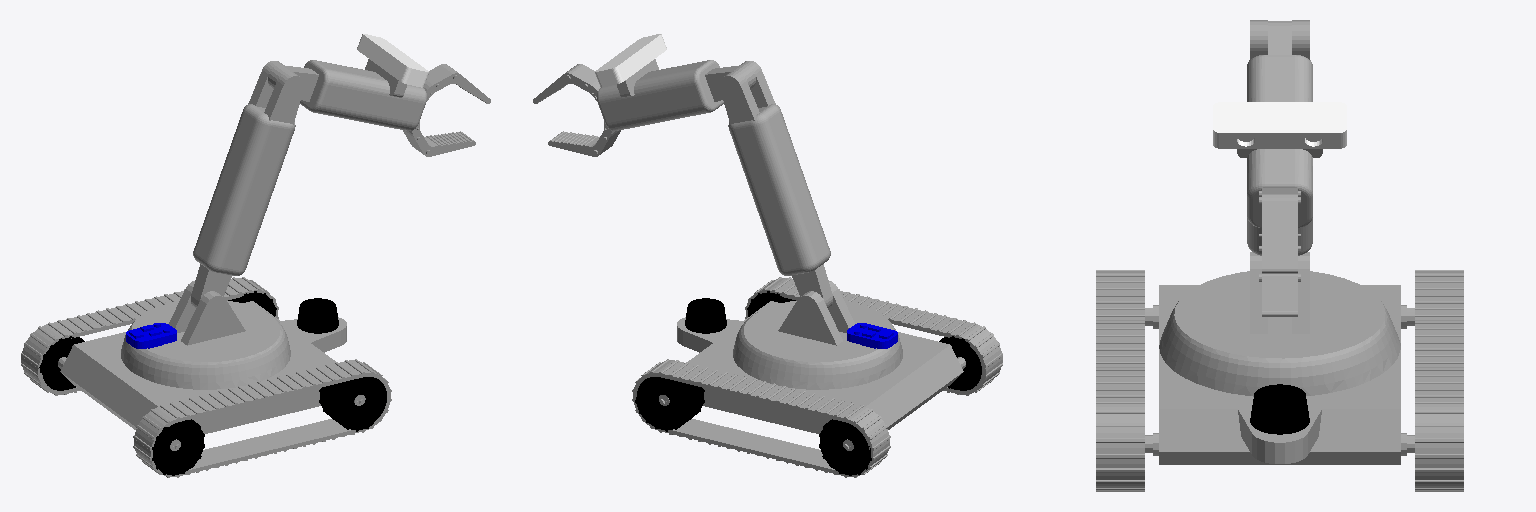
URDF robot description (slam2robot):
<?xml version="1.0" encoding="utf-8"?>
<robot name="slam2robot">

  <!-- Material definitions for RViz -->
  <material name="grey">
    <color rgba="0.7 0.7 0.7 1.0"/>
  </material>
  <material name="black">
    <color rgba="0.0 0.0 0.0 1.0"/>
  </material>
  <material name="white">
    <color rgba="1.0 1.0 1.0 1.0"/>
  </material>
  <material name="blue">
    <color rgba="0.0 0.0 1.0 1.0"/>
  </material>

  <gazebo reference="base_link"><material>Gazebo/Grey</material></gazebo>
  <gazebo reference="wheel1"><material>Gazebo/Black</material></gazebo>
  <gazebo reference="wheel2"><material>Gazebo/Black</material></gazebo>
  <gazebo reference="wheel3"><material>Gazebo/Black</material></gazebo>
  <gazebo reference="wheel4"><material>Gazebo/Black</material></gazebo>
  <gazebo reference="link1"><material>Gazebo/Grey</material></gazebo>
  <gazebo reference="link2"><material>Gazebo/Grey</material></gazebo>
  <gazebo reference="camera"><material>Gazebo/White</material></gazebo>
  <gazebo reference="imu"><material>Gazebo/Blue</material></gazebo>
  <gazebo reference="lidar"><material>Gazebo/Black</material></gazebo>

  <link name="base_link">
    <inertial>
      <origin xyz="0.0023332 -1.2121E-07 0.016421" rpy="0 0 0" />
      <mass value="3.7053" />
      <inertia ixx="0.010256" ixy="0" ixz="0" iyy="0.016675" iyz="0" izz="0.025413" />
    </inertial>
    <visual>
      <geometry><mesh filename="package://slam2robot/meshes/base_link.STL" /></geometry>
      <material name="grey"/>
    </visual>
    <collision>
      <geometry><mesh filename="package://slam2robot/meshes/base_link.STL" /></geometry>
    </collision>
  </link>

  <link name="wheel1">
    <inertial>
      <origin xyz="0 0 0" rpy="0 0 0" />
      <mass value="0.1279" />
      <inertia ixx="6.0677E-05" ixy="0" ixz="0" iyy="6.0677E-05" iyz="0" izz="9.3018E-05" />
    </inertial>
    <visual><geometry><mesh filename="package://slam2robot/meshes/wheel1.STL" /></geometry><material name="black"/></visual>
    <collision>
      <origin xyz="0 0 0" rpy="0 0 0" />
      <geometry><cylinder radius="0.05" length="0.04"/></geometry>
    </collision>
  </link>
  <joint name="w1" type="continuous">
    <origin xyz="0.12464 0.132 0" rpy="1.5708 0 0" />
    <parent link="base_link" /><child link="wheel1" /><axis xyz="0 0 -1" />
  </joint>

  <link name="wheel2">
    <inertial>
      <origin xyz="0 0 0" rpy="0 0 0" />
      <mass value="0.1279" />
      <inertia ixx="6.0677E-05" ixy="0" ixz="0" iyy="6.0677E-05" iyz="0" izz="9.3018E-05" />
    </inertial>
    <visual><geometry><mesh filename="package://slam2robot/meshes/wheel2.STL" /></geometry><material name="black"/></visual>
    <collision>
      <origin xyz="0 0 0" rpy="0 0 0" />
      <geometry><cylinder radius="0.05" length="0.04"/></geometry>
    </collision>
  </link>
  <joint name="w2" type="continuous">
    <origin xyz="-0.12464 0.132 0" rpy="1.5708 0 0" />
    <parent link="base_link" /><child link="wheel2" /><axis xyz="0 0 -1" />
  </joint>

  <link name="wheel3">
    <inertial>
      <origin xyz="0 0 0" rpy="0 0 0" />
      <mass value="0.1279" />
      <inertia ixx="6.0677E-05" ixy="0" ixz="0" iyy="6.0677E-05" iyz="0" izz="9.3018E-05" />
    </inertial>
    <visual><geometry><mesh filename="package://slam2robot/meshes/wheel3.STL" /></geometry><material name="black"/></visual>
    <collision>
      <origin xyz="0 0 0" rpy="0 0 0" />
      <geometry><cylinder radius="0.05" length="0.04"/></geometry>
    </collision>
  </link>
  <joint name="w3" type="continuous">
    <origin xyz="0.12464 -0.132 0" rpy="1.5708 0 3.1416" />
    <parent link="base_link" /><child link="wheel3" /><axis xyz="0 0 1" />
  </joint>

  <link name="wheel4">
    <inertial>
      <origin xyz="0 0 0" rpy="0 0 0" />
      <mass value="0.1279" />
      <inertia ixx="6.0677E-05" ixy="0" ixz="0" iyy="6.0677E-05" iyz="0" izz="9.3018E-05" />
    </inertial>
    <visual><geometry><mesh filename="package://slam2robot/meshes/wheel4.STL" /></geometry><material name="black"/></visual>
    <collision>
      <origin xyz="0 0 0" rpy="0 0 0" />
      <geometry><cylinder radius="0.05" length="0.04"/></geometry>
    </collision>
  </link>
  <joint name="w4" type="continuous">
    <origin xyz="-0.12464 -0.132 0" rpy="1.5708 0 3.1416" />
    <parent link="base_link" /><child link="wheel4" /><axis xyz="0 0 1" />
  </joint>

  <link name="track1"><visual><geometry><mesh filename="package://slam2robot/meshes/track1.STL" /></geometry><material name="grey"/></visual></link>
  <joint name="t1" type="fixed"><origin xyz="0.00035 0.132 0" rpy="0 0 0" /><parent link="base_link" /><child link="track1" /></joint>

  <link name="track2"><visual><geometry><mesh filename="package://slam2robot/meshes/track2.STL" /></geometry><material name="grey"/></visual></link>
  <joint name="t2" type="fixed"><origin xyz="0.00035 -0.132 0" rpy="0 0 0" /><parent link="base_link" /><child link="track2" /></joint>

  <link name="link1">
    <inertial>
      <origin xyz="0.13921 0 0" rpy="0 0 0" />
      <mass value="0.65479" />
      <inertia ixx="0.000283" ixy="0" ixz="0" iyy="0.00334" iyz="0" izz="0.00333" />
    </inertial>
    <visual><geometry><mesh filename="package://slam2robot/meshes/link1.STL" /></geometry><material name="grey"/></visual>
    <collision><geometry><mesh filename="package://slam2robot/meshes/link1.STL" /></geometry></collision>
  </link>
  <joint name="l1" type="revolute">
    <origin xyz="0 0 0.10072" rpy="1.5708 -1.189 0" />
    <parent link="base_link" />
    <child link="link1" />
    <axis xyz="0 0 1" />
    <limit lower="-0.4" upper="1.57" effort="15" velocity="3" />
    <dynamics damping="1.0" friction="1.0"/>
  </joint>

  <link name="link2">
    <inertial>
      <origin xyz="0.12213 -0.00115 0" rpy="0 0 0" />
      <mass value="0.56752" />
      <inertia ixx="0.00030" ixy="0" ixz="0" iyy="0.00242" iyz="0" izz="0.00250" />
    </inertial>
    <visual><geometry><mesh filename="package://slam2robot/meshes/link2.STL" /></geometry><material name="grey"/></visual>
    <collision><geometry><mesh filename="package://slam2robot/meshes/link2.STL" /></geometry></collision>
  </link>
  <joint name="l2" type="revolute">
    <origin xyz="0.28 0 0" rpy="0 0 -1.5708" />
    <parent link="link1" />
    <child link="link2" />
    <axis xyz="0 0 1" />
    <limit lower="-0.4" upper="1.57" effort="20" velocity="2" />
    <dynamics damping="8.0" friction="1.0"/> 
  </joint>

  <link name="camera">
    <inertial>
      <origin xyz="0 -3.086e-05 -0.000346" rpy="0 0 0" /><mass value="0.073" />
      <inertia ixx="8.20E-05" ixy="0" ixz="0" iyy="8.96E-06" iyz="0" izz="7.81E-05" />
    </inertial>
    <visual><origin xyz="0 0 0" rpy="0 0 1.5708" /><geometry><mesh filename="package://slam2robot/meshes/camera.STL" /></geometry><material name="white"/></visual>
    <collision><origin xyz="0 0 0" rpy="0 0 1.5708" /><geometry><mesh filename="package://slam2robot/meshes/camera.STL" /></geometry></collision>
  </link>
  <joint name="cam_joint" type="fixed">
    <origin xyz="0.14207 0.046599 0" rpy="-1.5708 0 -1.6126" /><parent link="link2" /><child link="camera" />
  </joint>
  <link name="camera_optical"/>
  <joint name="camera_optical_joint" type="fixed">
    <origin xyz="0 0 0" rpy="0 -1.5708 0" />
    <parent link="camera" />
    <child link="camera_optical" />
  </joint>

  <link name="imu">
    <inertial>
      <origin xyz="-0.00021152 9.4705E-05 0.0037659" rpy="0 0 0" /><mass value="0.025" />
      <inertia ixx="2.83E-06" ixy="0" ixz="0" iyy="6.05E-06" iyz="0" izz="7.62E-06" />
    </inertial>
    <visual><geometry><mesh filename="package://slam2robot/meshes/imu.STL" /></geometry><material name="blue"/></visual>
    <collision><geometry><mesh filename="package://slam2robot/meshes/imu.STL" /></geometry></collision>
  </link>
  <joint name="imu_joint" type="fixed">
    <origin xyz="-0.073325 0 0.065717" rpy="0 0 0" /><parent link="base_link" /><child link="imu" />
  </joint>

  <link name="lidar">
    <inertial>
      <origin xyz="0 0 0.02" rpy="0 0 0" /><mass value="0.05" />
      <inertia ixx="9.89E-06" ixy="0" ixz="0" iyy="9.89E-06" iyz="0" izz="1.29E-05" />
    </inertial>
    <visual><origin xyz="0 0 -0.02" rpy="0 0 0" /><geometry><mesh filename="package://slam2robot/meshes/lidar.STL" /></geometry><material name="black"/></visual>
    <collision><origin xyz="0 0 -0.02" rpy="0 0 0" /><geometry><mesh filename="package://slam2robot/meshes/lidar.STL" /></geometry></collision>
  </link>
  <joint name="lidar_front_joint" type="fixed">
    <origin xyz="0.15193 0 0.07717" rpy="0 0 0" /><parent link="base_link" /><child link="lidar" />
  </joint>

  <gazebo>
    <plugin name="diff_drive" filename="libgazebo_ros_diff_drive.so">
      <num_wheel_pairs>2</num_wheel_pairs>
      
      <left_joint>w1</left_joint>
      <left_joint>w2</left_joint>
      
      <right_joint>w4</right_joint>
      <right_joint>w3</right_joint>

      <wheel_separation>0.264</wheel_separation>
      <wheel_diameter>0.1</wheel_diameter>
      
      <max_wheel_torque>20</max_wheel_torque>
      <max_wheel_acceleration>1.0</max_wheel_acceleration>
      <publish_odom>true</publish_odom>
      <publish_odom_tf>true</publish_odom_tf>
      <publish_wheel_tf>true</publish_wheel_tf>
      <odometry_frame>odom</odometry_frame>
      <robot_base_frame>base_link</robot_base_frame>
    </plugin>
  </gazebo>

  <gazebo reference="lidar">
    <sensor name="lidar" type="ray">
      <pose>0 0 0.7 0 0 0</pose>
      <always_on>true</always_on>
      <visualize>true</visualize>
      <update_rate>5</update_rate>
      <ray>
        <scan>
          <horizontal>
            <samples>330</samples>
            <resolution>1.000000</resolution>
            <min_angle>-2.87979</min_angle>
            <max_angle>2.87979</max_angle>
          </horizontal>
        </scan>
        <range>
          <min>0.120000</min>
          <max>3.5</max>
          <resolution>0.015000</resolution>
        </range>
      </ray>
      <plugin name="scan" filename="libgazebo_ros_ray_sensor.so">
        <ros><remapping>~/out:=scan</remapping></ros>
        <output_type>sensor_msgs/LaserScan</output_type>
        <frame_name>lidar</frame_name>
      </plugin>
    </sensor>
  </gazebo>
  <gazebo reference="camera_optical">
    <sensor name="camera" type="camera">
      <pose>0 0 0 0 0 0</pose>
      <visualize>true</visualize>
      <always_on>true</always_on>
      <update_rate>30.0</update_rate>
      <camera name="head">
        <horizontal_fov>1.3962634</horizontal_fov>
        <image>
          <width>800</width>
          <height>800</height>
          <format>R8G8B8</format>
        </image>
        <clip><near>0.02</near><far>300</far></clip>
      </camera>
      <plugin name="camera_controller" filename="libgazebo_ros_camera.so">
        <cameraName>camera</cameraName>
        <imageTopicName>image_raw</imageTopicName>
        <cameraInfoTopicName>camera_info</cameraInfoTopicName>
        <frameName>camera_optical</frameName>
      </plugin>
    </sensor>
  </gazebo>

  <gazebo reference="imu">
    <sensor name="imu_sensor" type="imu">
      <always_on>true</always_on>
      <update_rate>100</update_rate>
      <plugin name="imu_plugin" filename="libgazebo_ros_imu_sensor.so">
        <ros><remapping>~/out:=imu</remapping></ros>
      </plugin>
    </sensor>
  </gazebo>

  <!-- Joint Trajectory Controller Plugin -->
  <gazebo>
    <plugin name="gazebo_ros_joint_state_publisher" filename="libgazebo_ros_joint_state_publisher.so">
      <update_rate>20</update_rate>
      <joint_name>w1</joint_name>
      <joint_name>w2</joint_name>
      <joint_name>w3</joint_name>
      <joint_name>w4</joint_name>
      <joint_name>l1</joint_name>
      <joint_name>l2</joint_name>
    </plugin>
  </gazebo>

  <gazebo>
    <plugin name="gazebo_ros2_control" filename="libgazebo_ros2_control.so">
      <robotNamespace>/</robotNamespace>
      <parameters>__CONTROLLER_CONFIG_FILE__</parameters>
      <robot_param>robot_description</robot_param>
      <robot_param_node>robot_state_publisher</robot_param_node>
    </plugin>
  </gazebo>

  <!-- ROS 2 Control Configuration -->
  <ros2_control name="GazeboSystem" type="system">
    <hardware>
      <plugin>gazebo_ros2_control/GazeboSystem</plugin>
    </hardware>
    <joint name="l1">
      <command_interface name="position"/>
      <state_interface name="position"/>
      <state_interface name="velocity"/>
    </joint>
    <joint name="l2">
      <command_interface name="position"/>
      <state_interface name="position"/>
      <state_interface name="velocity"/>
    </joint>
  </ros2_control>

</robot>

--- Facts derived from the render (not from the file) ---
Views: 3 orthographic renders of the robot side by side, from view 1: azimuth 30°, elevation 25°; view 2: azimuth 150°, elevation 25°; view 3: azimuth 270°, elevation 25°.
Robot: slam2robot — 13 links, 12 joints (2 revolute, 4 continuous, 6 fixed); root link base_link; default pose: every joint at zero.
Links seen in each view (by area): view 1: base_link, link1, link2, track2, track1, wheel3, wheel4, camera, lidar, wheel2, imu; view 2: base_link, link1, link2, track1, track2, wheel1, wheel2, camera, lidar, wheel4, imu; view 3: base_link, link2, track1, track2, camera, lidar, link1.
Link boxes in pixels (x1=…): base_link: x1=58, y1=281, x2=365, y2=450; link1: x1=191, y1=61, x2=304, y2=314; link2: x1=268, y1=59, x2=490, y2=156; track2: x1=133, y1=359, x2=391, y2=477; track1: x1=21, y1=277, x2=278, y2=395; wheel3: x1=319, y1=377, x2=386, y2=431; wheel4: x1=152, y1=419, x2=204, y2=475; camera: x1=357, y1=34, x2=428, y2=87; lidar: x1=297, y1=298, x2=338, y2=333; wheel2: x1=39, y1=336, x2=84, y2=390; imu: x1=126, y1=323, x2=176, y2=348; base_link: x1=659, y1=281, x2=965, y2=450; link1: x1=719, y1=61, x2=832, y2=314; link2: x1=533, y1=59, x2=755, y2=156; track1: x1=632, y1=359, x2=890, y2=477; track2: x1=745, y1=277, x2=1002, y2=395; wheel1: x1=635, y1=377, x2=704, y2=431; wheel2: x1=819, y1=419, x2=871, y2=475; camera: x1=595, y1=34, x2=666, y2=87; lidar: x1=685, y1=298, x2=726, y2=333; wheel4: x1=939, y1=336, x2=981, y2=390; imu: x1=847, y1=323, x2=897, y2=348; base_link: x1=1145, y1=252, x2=1414, y2=464; link2: x1=1237, y1=21, x2=1322, y2=316; track1: x1=1415, y1=270, x2=1463, y2=491; track2: x1=1096, y1=270, x2=1144, y2=491; camera: x1=1213, y1=102, x2=1346, y2=148; lidar: x1=1250, y1=384, x2=1309, y2=434; link1: x1=1247, y1=20, x2=1312, y2=255.
Bounding box of the posed robot: 0.5414 × 0.304 × 0.4146 m (x, y, z).
12 mesh visuals loaded from 12 distinct referenced files (12 binary STL).
